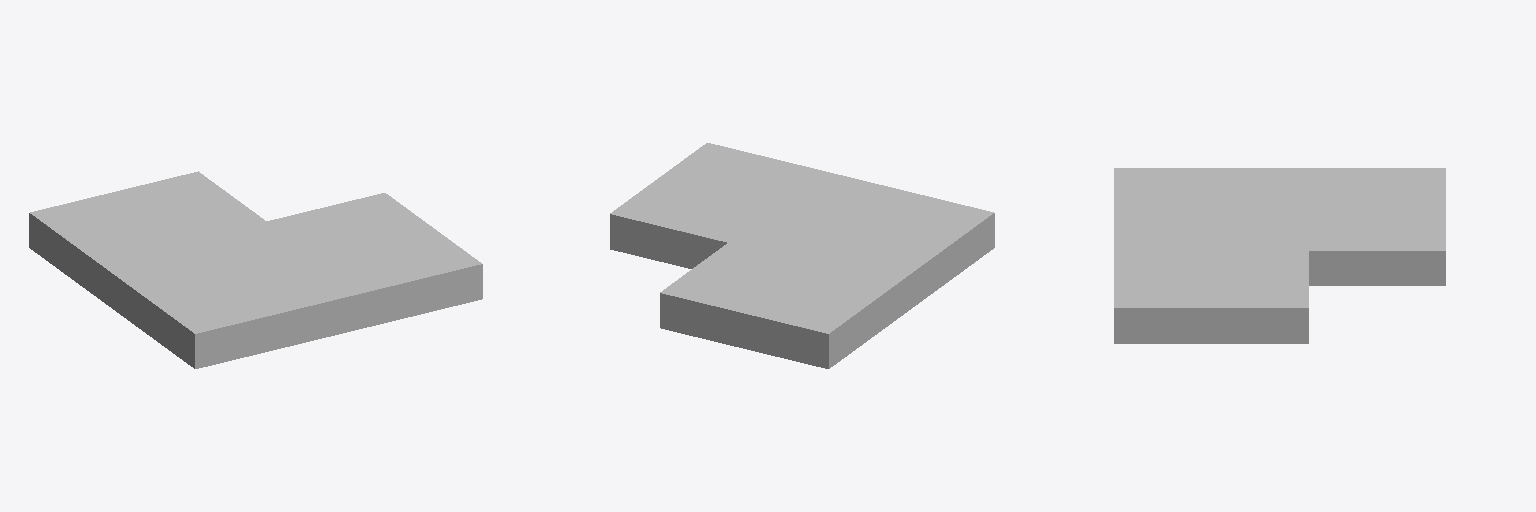
The model's file is leaf.obj.
3 renders of one model, left to right at view 1: azimuth 30°, elevation 25°; view 2: azimuth 150°, elevation 25°; view 3: azimuth 270°, elevation 25°, orthographic.
Visible parts, largest first — view 1: object 1; view 2: object 1; view 3: object 1.
Boxes of the visible parts, x1=… form: object 1: x1=29, y1=171, x2=482, y2=368; object 1: x1=610, y1=143, x2=994, y2=368; object 1: x1=1114, y1=168, x2=1445, y2=343.
Size of the model in its own units: 1.7 by 0.2 by 1.7.